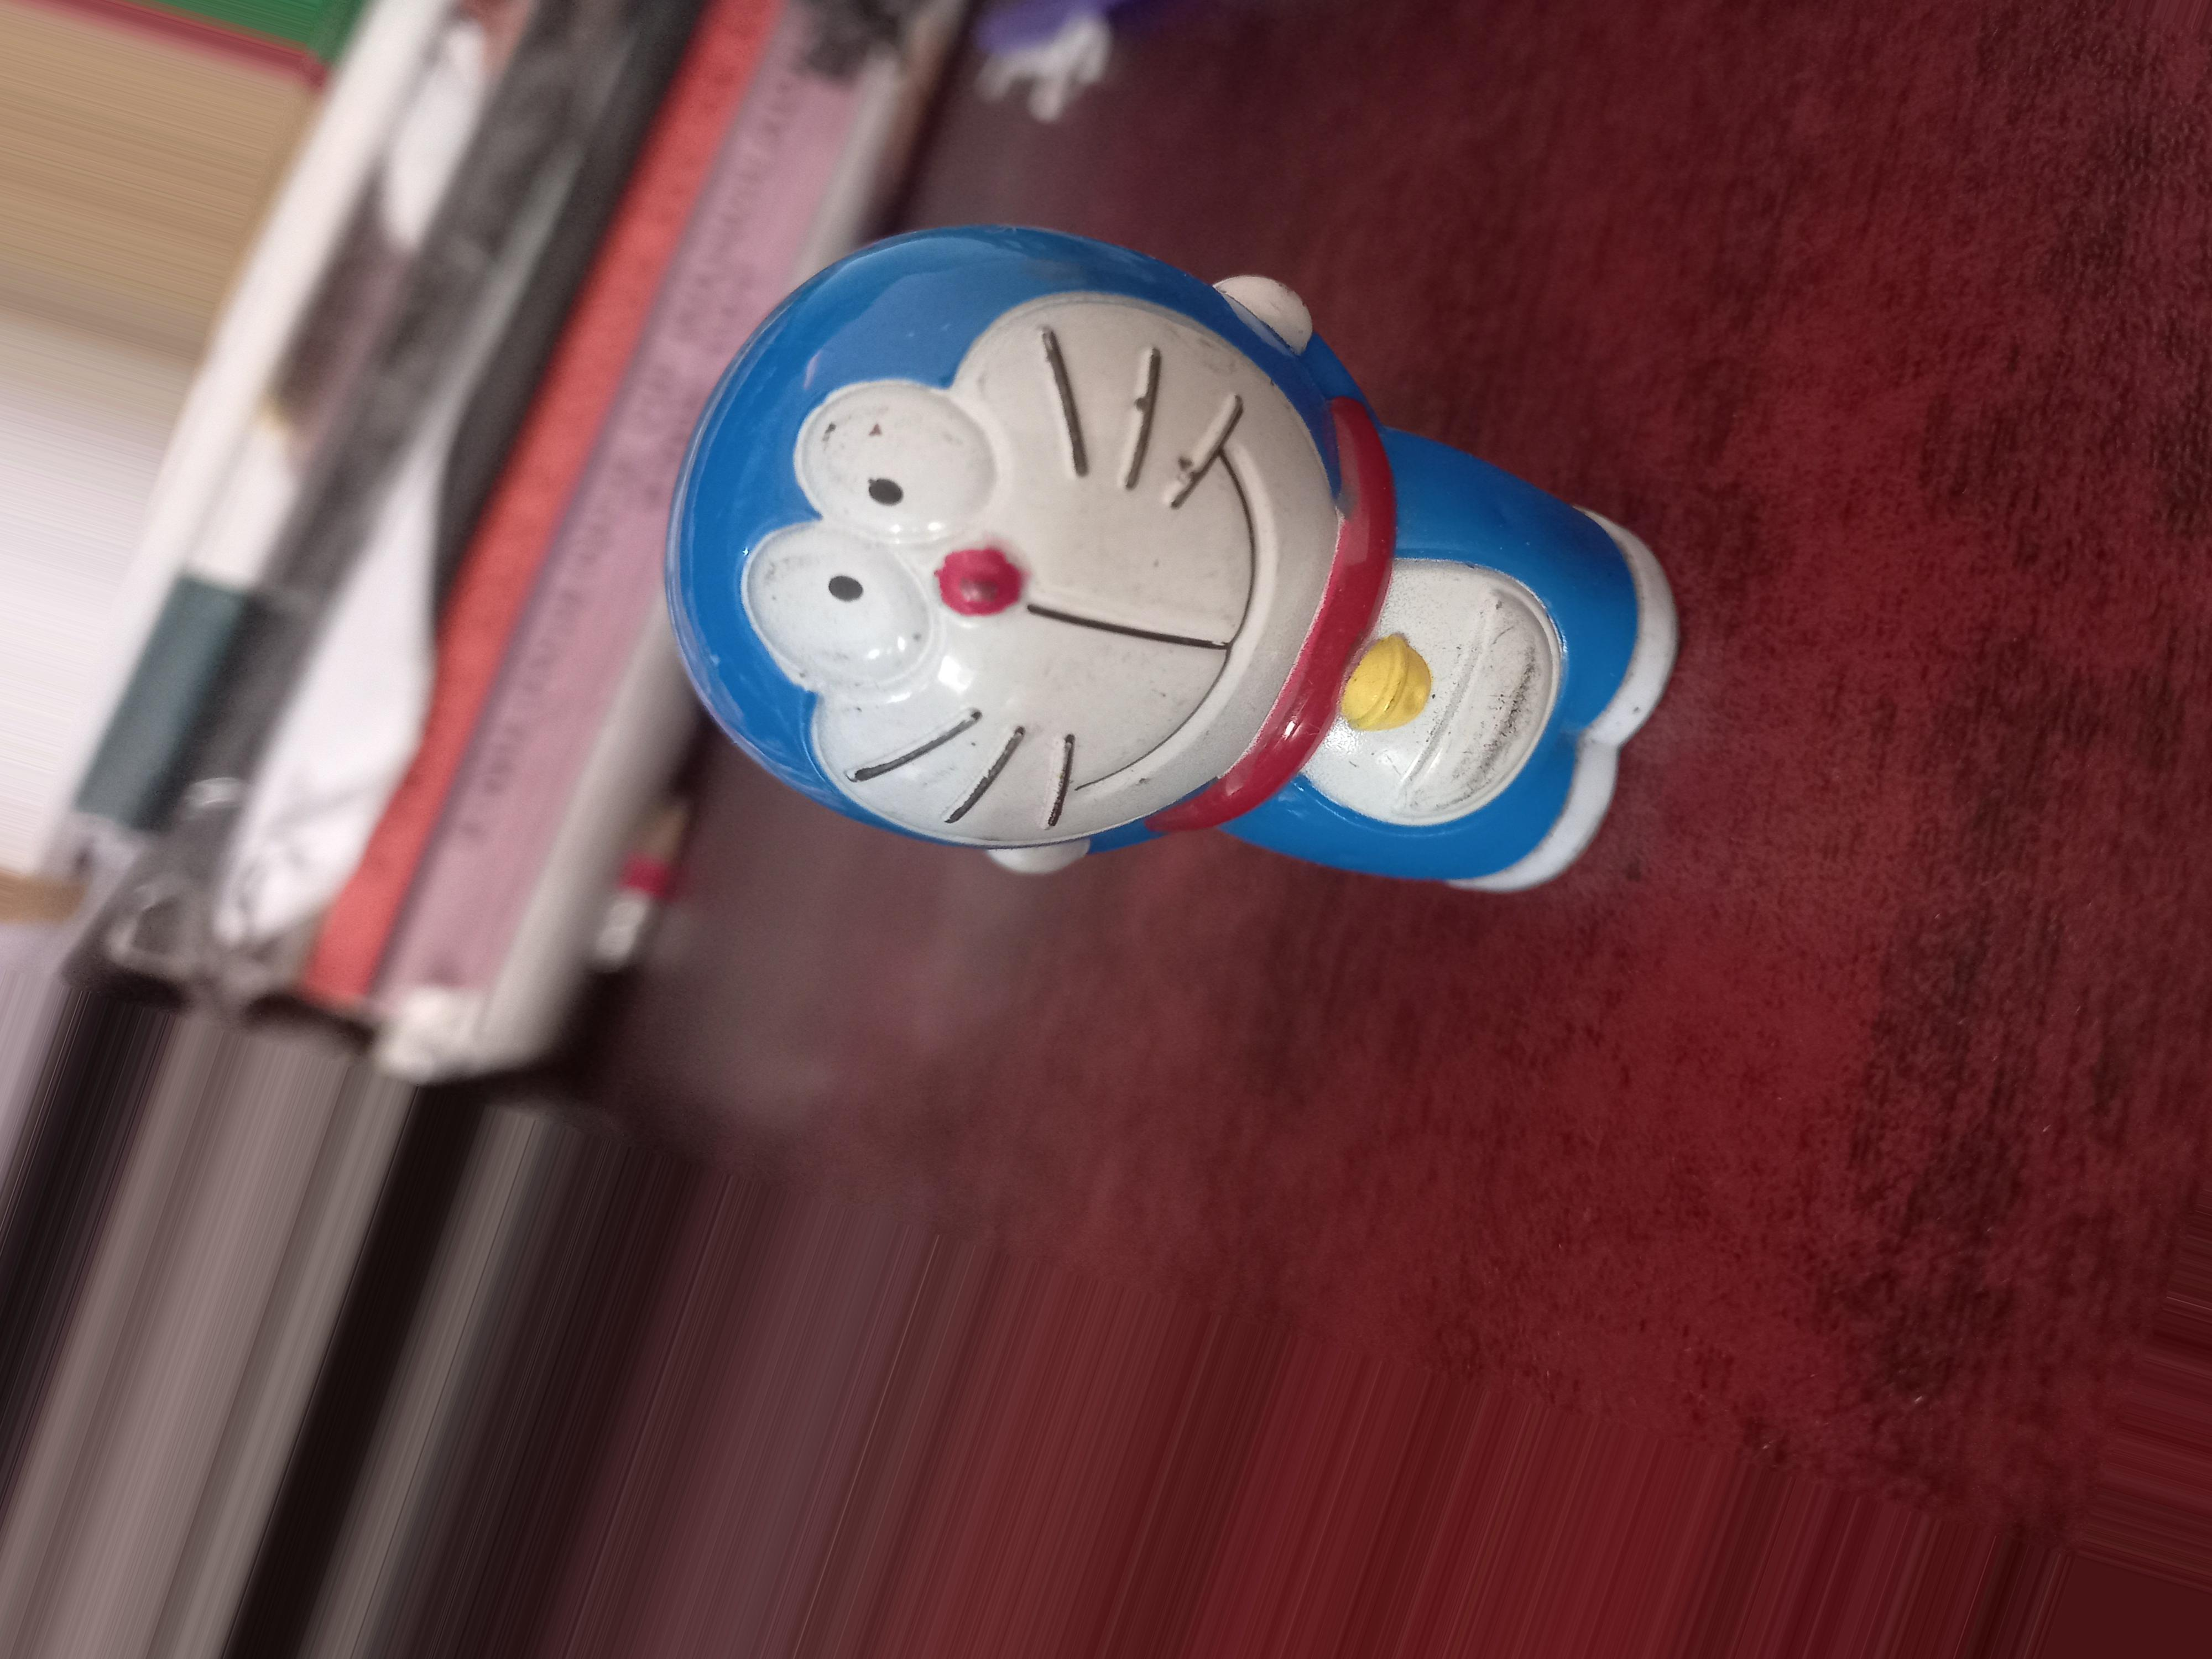doraemon: (693, 195, 1651, 955)
